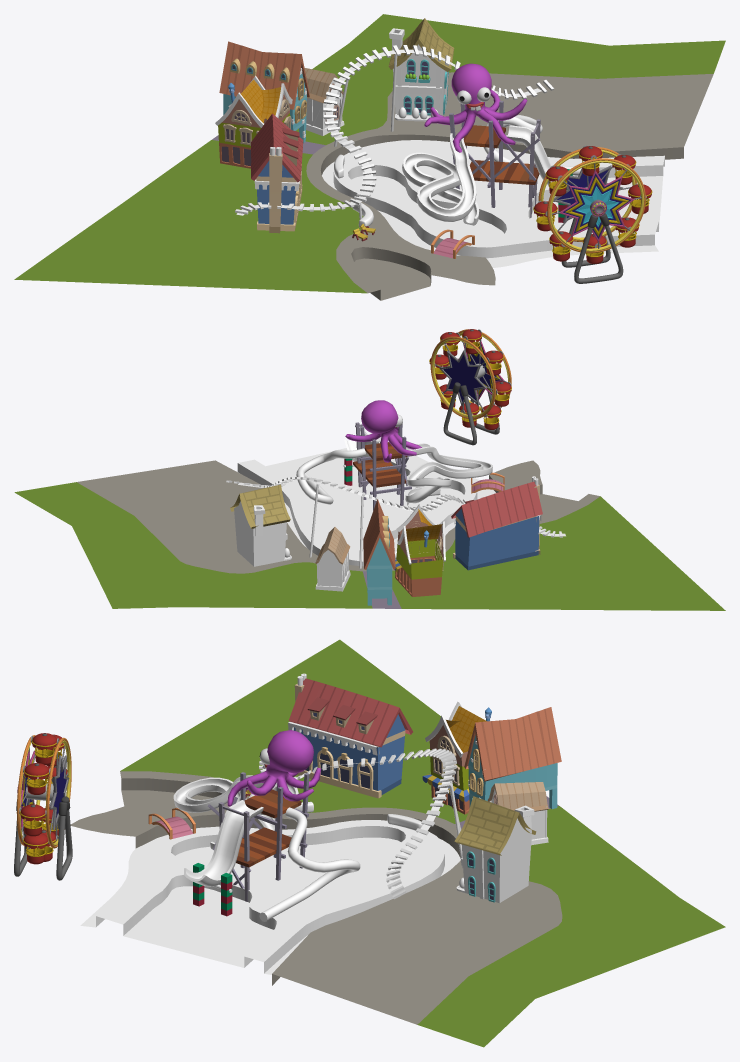
The model's file is loc_04.fbx.
3 views of the same model, one above another, from view 1: azimuth 30°, elevation 25°; view 2: azimuth 150°, elevation 25°; view 3: azimuth 270°, elevation 25° (orthographic). The views are drawn at different scales.
Visible parts, largest first — view 1: Line2119, Plane036, Ferris_Wheel, Line2121, Shape506, Box229927, Mesher002, Group597, Group598, Box230448, Box3924, Group600 (+18 smaller); view 2: Line2119, Plane036, Box230478, Ferris_Wheel, Group598, Box230448, Shape506, Line2121, Box230511, Box229927, Group600, Box230451 (+7 smaller); view 3: Line2119, Plane036, Group597, Group598, Shape506, Box229927, Box230511, Box230478, Ferris_Wheel, Group600, Line2127, Mesher002 (+15 smaller).
Boxes of the visible parts, x1,y1,x2,y2 form: Line2119: [14, 14, 725, 300]; Plane036: [322, 140, 664, 267]; Ferris_Wheel: [538, 147, 645, 253]; Line2121: [402, 133, 479, 225]; Shape506: [449, 101, 540, 217]; Box229927: [424, 63, 527, 152]; Mesher002: [235, 45, 553, 214]; Group597: [219, 41, 309, 109]; Group598: [251, 113, 303, 182]; Box230448: [218, 93, 290, 168]; Box3924: [561, 213, 623, 283]; Group600: [388, 18, 454, 71]; Line2119: [14, 460, 725, 610]; Plane036: [237, 434, 495, 566]; Box230478: [455, 508, 539, 570]; Ferris_Wheel: [430, 329, 511, 419]; Group598: [451, 481, 542, 537]; Box230448: [395, 511, 443, 596]; Shape506: [353, 422, 411, 510]; Line2121: [405, 443, 492, 503]; Box230511: [234, 501, 286, 566]; Box229927: [345, 400, 421, 462]; Group600: [230, 484, 290, 528]; Box230451: [366, 538, 392, 605]; Line2119: [70, 639, 725, 1047]; Plane036: [80, 820, 460, 974]; Group597: [464, 707, 561, 781]; Group598: [288, 678, 412, 747]; Shape506: [207, 772, 309, 901]; Box229927: [227, 730, 320, 806]; Box230511: [461, 818, 531, 902]; Box230478: [294, 714, 405, 794]; Ferris_Wheel: [16, 735, 71, 848]; Group600: [454, 796, 536, 855]; Line2127: [259, 807, 360, 921]; Mesher002: [259, 748, 456, 899].
Size of the model in its own units: 7584 by 1291 by 5593.
